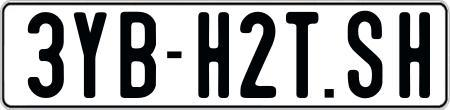2: (239, 10, 278, 101)
3: (28, 12, 68, 102)
B: (119, 11, 160, 103)
H: (399, 11, 435, 103), (197, 11, 234, 98)
S: (346, 11, 382, 101)
T: (286, 11, 323, 100)
Y: (74, 11, 107, 98)
